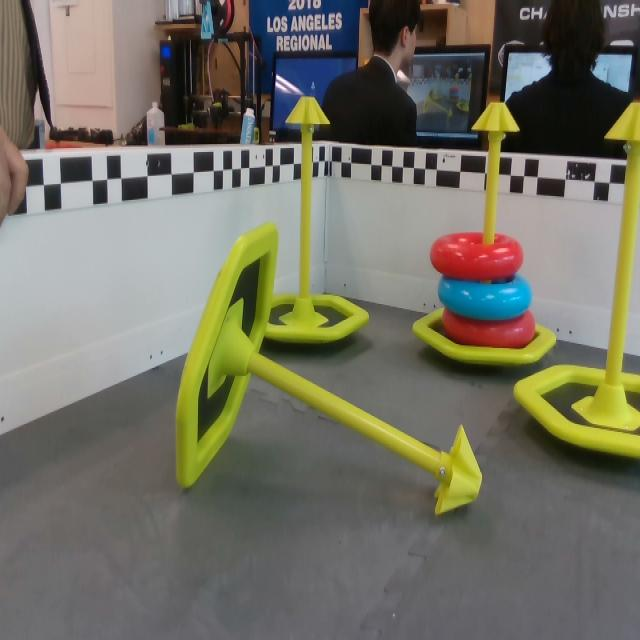Blue-Ring: (440, 276, 534, 325)
Mobile-Goal: (174, 218, 485, 519), (512, 101, 639, 464), (413, 101, 566, 369), (262, 93, 371, 346)
Red-Ring: (429, 230, 526, 282), (441, 302, 540, 349)
Yellow-Stake-Head: (433, 424, 484, 520), (472, 101, 520, 136), (604, 101, 640, 143), (286, 95, 330, 127)
